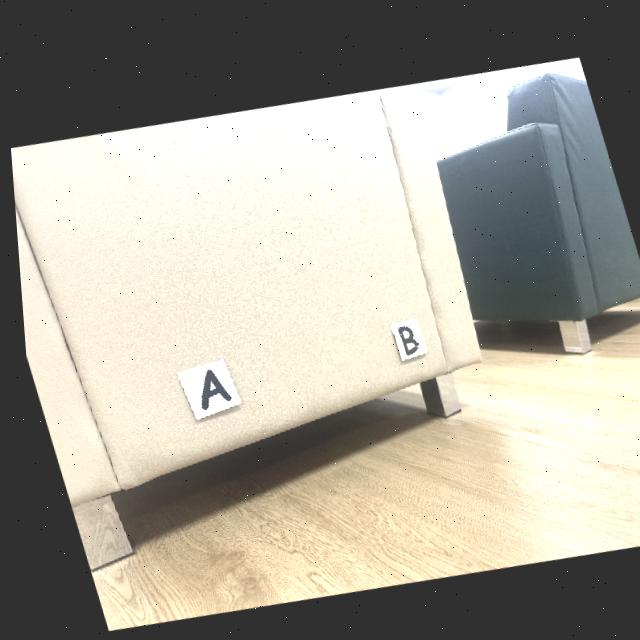A: (194, 366, 225, 406)
B: (393, 319, 414, 349)
